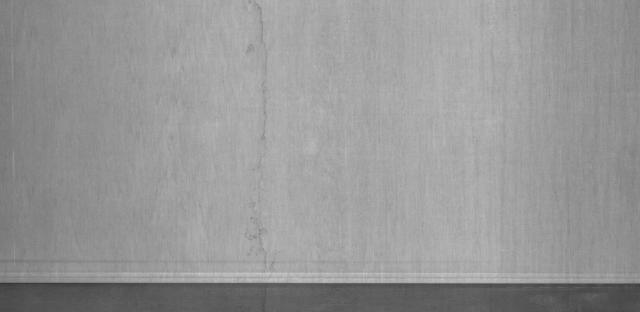welding_line: (2, 262, 640, 295)
